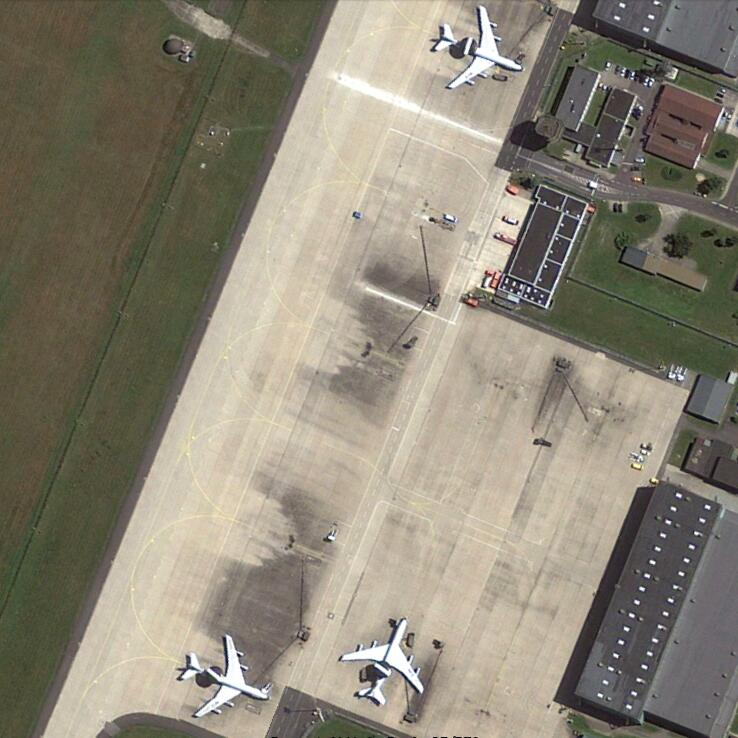A7: (178, 633, 271, 721), (431, 3, 523, 91), (339, 616, 425, 708)
